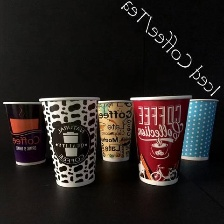paper_cup: (126, 91, 195, 189), (35, 92, 103, 190), (0, 97, 54, 169), (172, 94, 221, 164), (92, 95, 138, 165)
